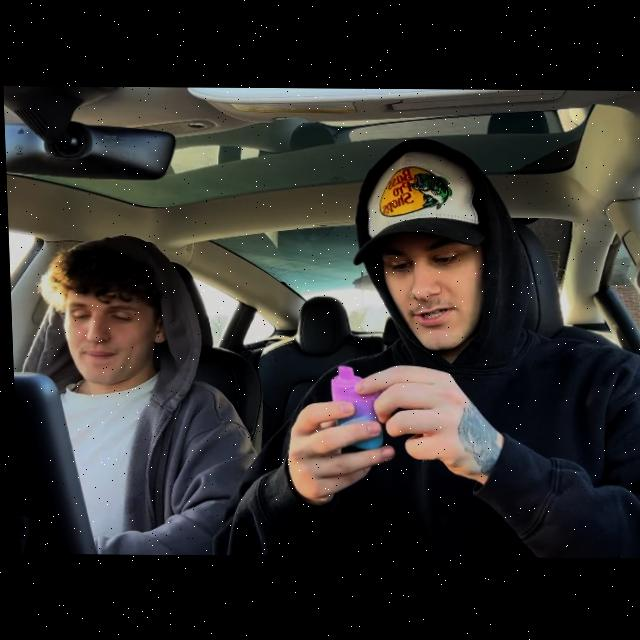vape: (327, 365, 380, 449)
